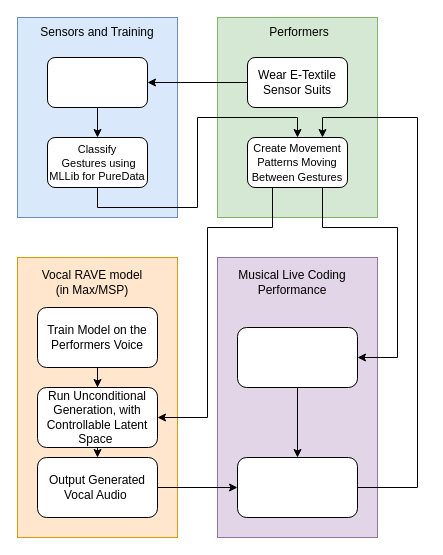
Some shapes in this 443 by 555 pixel diagram are drawn without their labels. The shapes that lost their labels are listed below. From the top down, each one's centre as x and y in pixels, then its label:
At [97,82]: "Start + Calibrate Sensors".
At [297,357]: "Alter Data Received from Performers through Live Code".
At [297,487]: "Audio Output (Voice Model mixed with Music)".
